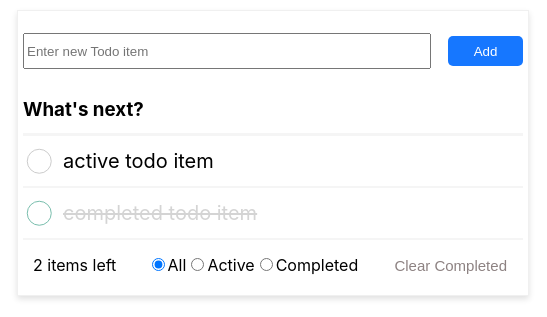
Test: TodoList › should clear all completed
Check: the text "active todo item" is shown, box [63,149,214,173]
Check: the text "completed todo item" is shown, box [63,201,257,225]
Click the button "Clear Completed": {"x": 451, "y": 265} [388,250,513,280]
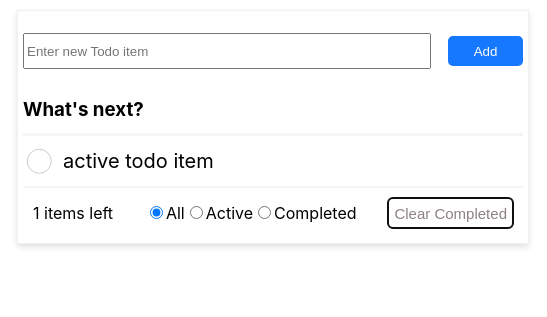
Check: the text "completed todo item" is gone
